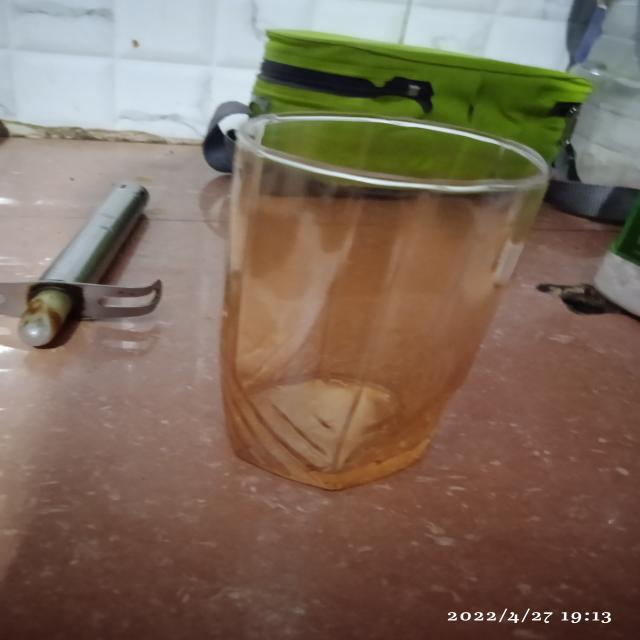Glass: (210, 107, 554, 493)
